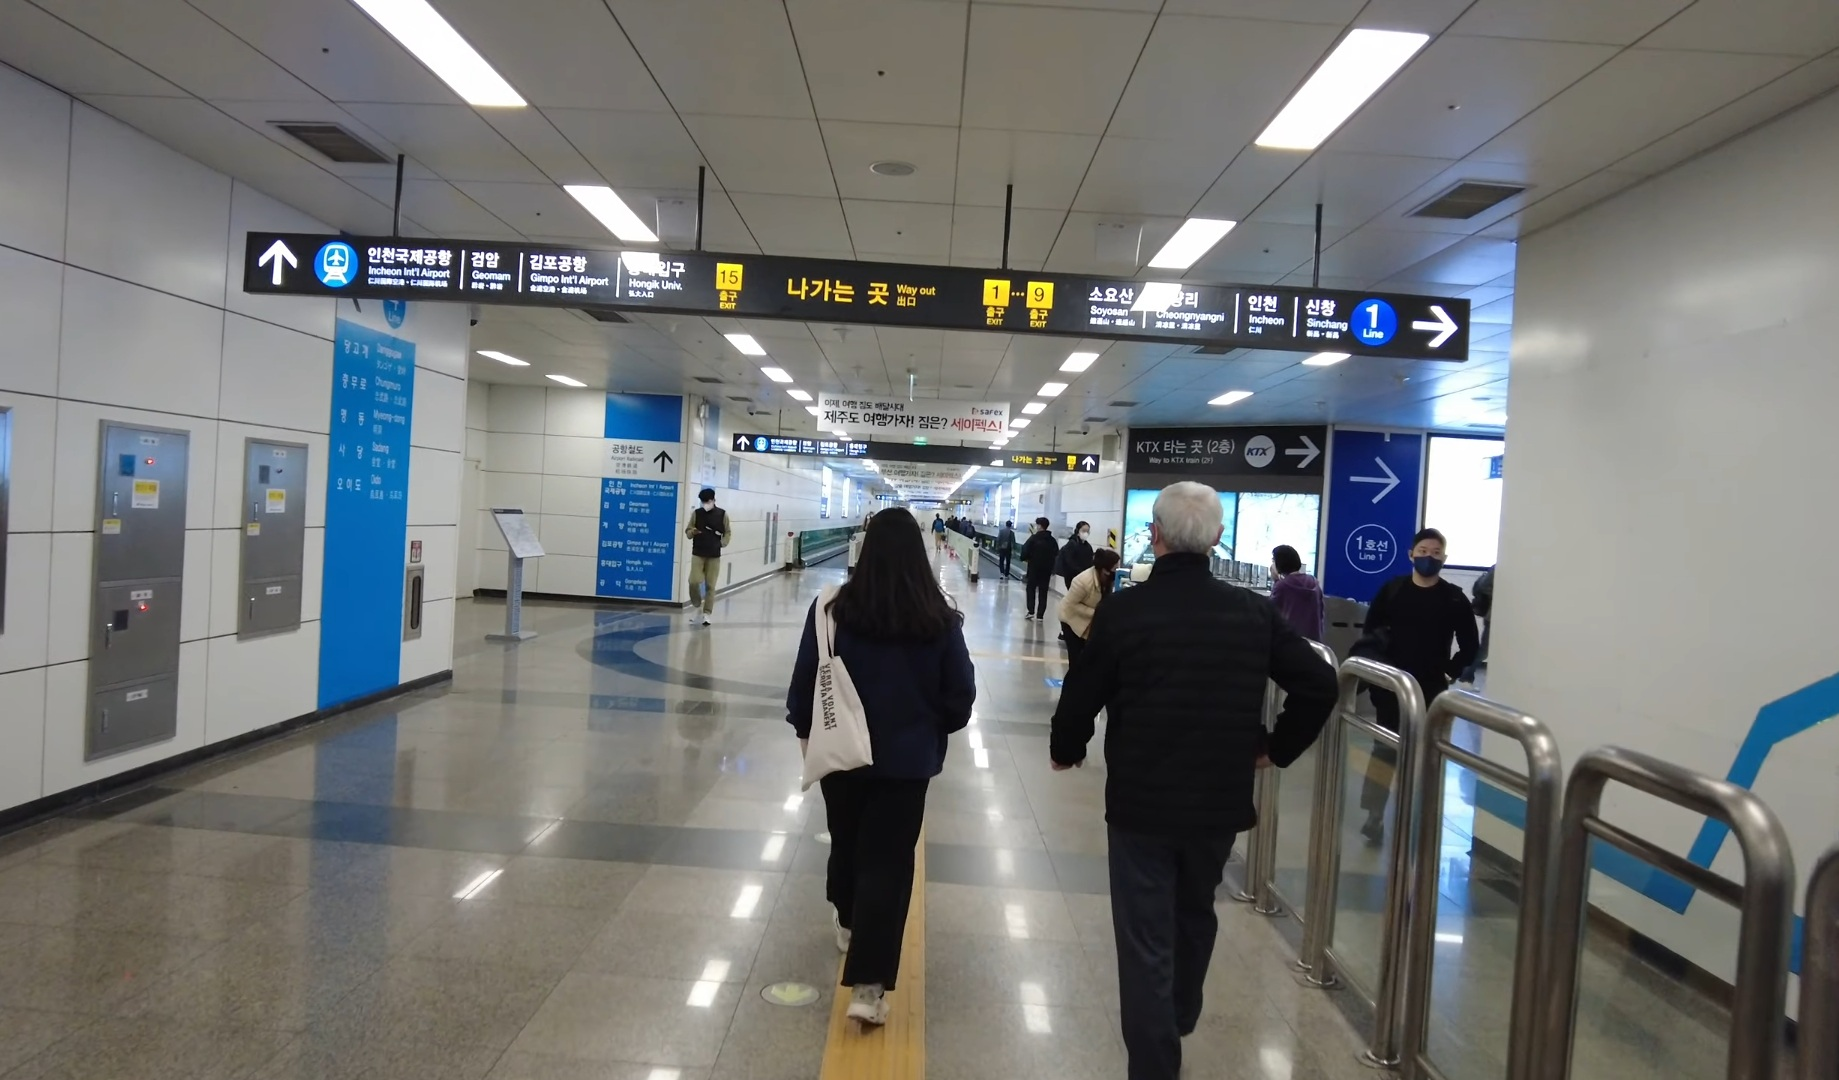signBoard: (227, 206, 1480, 366)
